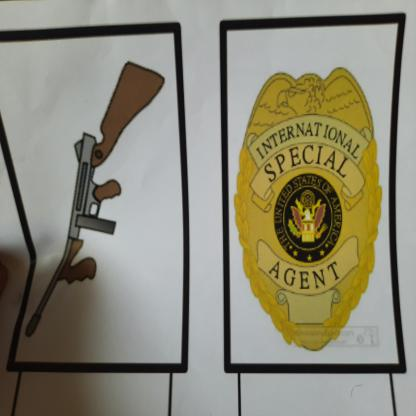Bootlegger: (15, 48, 175, 357)
G-man: (231, 61, 389, 355)
